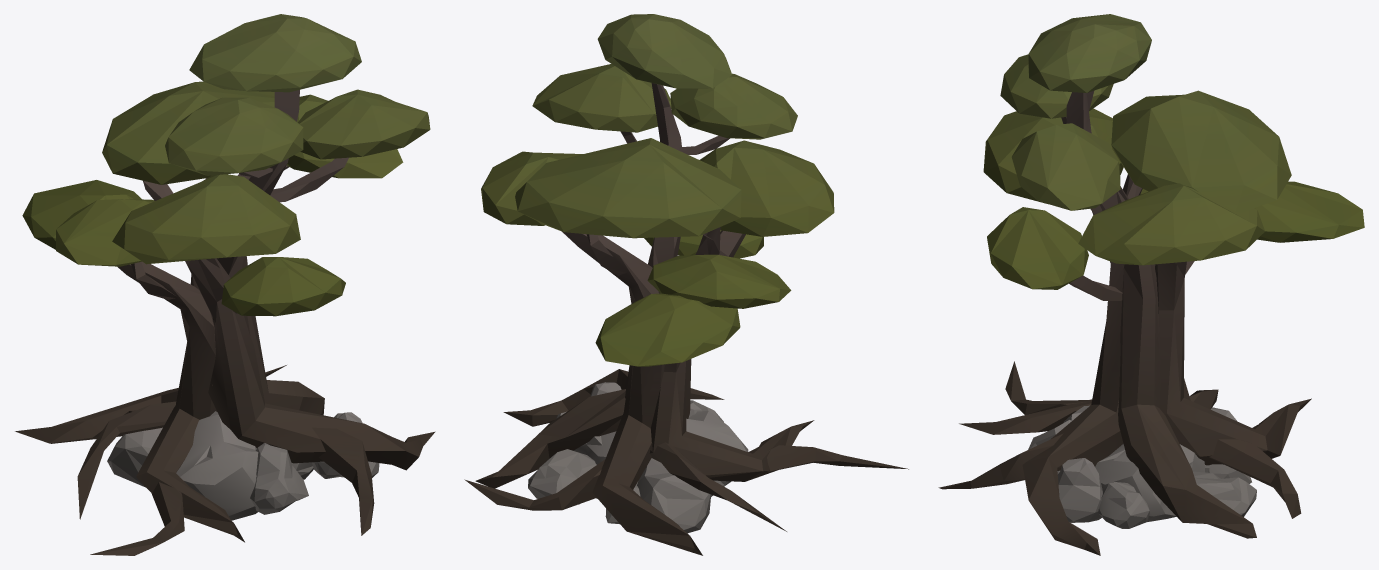
Rendered from Tree05.FBX.
3 renders of one model, left to right at view 1: azimuth 30°, elevation 25°; view 2: azimuth 150°, elevation 25°; view 3: azimuth 270°, elevation 25°, orthographic. The views are drawn at different scales.
Parts seen in each view (by area): view 1: Tree_04; view 2: Tree_04; view 3: Tree_04.
Boxes of the visible parts, box(x1,y1,x2,y2) form: Tree_04: box(15, 14, 435, 555); Tree_04: box(464, 14, 908, 555); Tree_04: box(938, 14, 1364, 555).
Bounding box in the file's own units: 1813 × 2171 × 1701.
